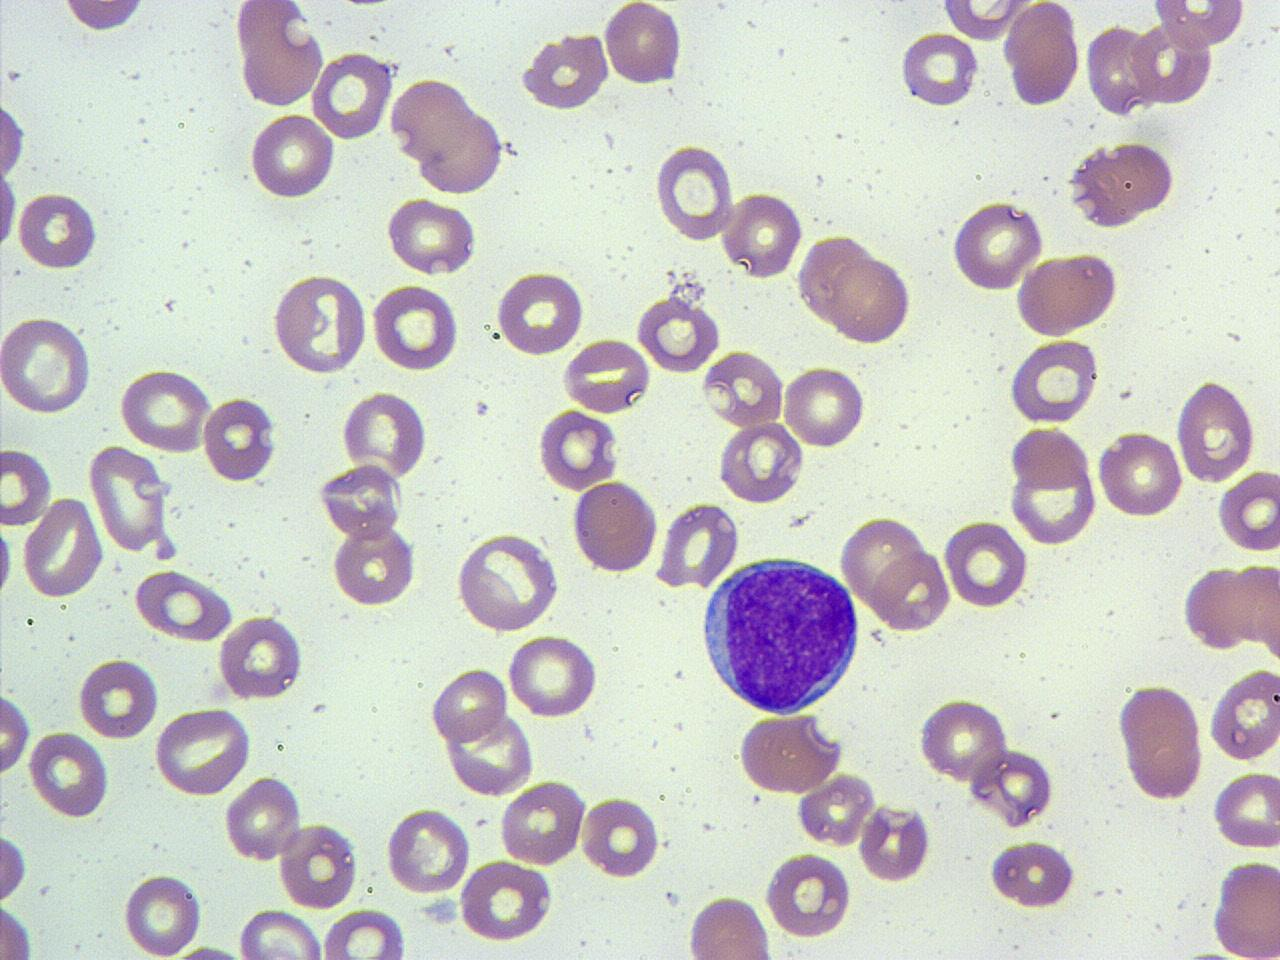Platelets: (0, 521, 16, 603)
RBC: (453, 530, 561, 632), (1115, 681, 1205, 803), (232, 2, 326, 111), (1069, 135, 1179, 228), (272, 270, 368, 376), (86, 442, 176, 553), (0, 312, 94, 418), (1006, 439, 1098, 546), (1013, 250, 1121, 339), (836, 512, 932, 612), (950, 196, 1047, 293), (152, 705, 254, 797), (1173, 376, 1259, 484), (734, 712, 842, 796), (21, 494, 106, 600), (570, 476, 660, 574), (386, 74, 480, 167), (116, 365, 214, 454), (339, 388, 431, 481), (494, 267, 588, 358), (369, 280, 460, 374), (654, 141, 736, 245), (497, 776, 587, 870), (1004, 1, 1082, 109), (456, 859, 556, 943), (444, 706, 535, 798), (761, 849, 852, 940), (1008, 337, 1101, 426), (916, 696, 1010, 784), (506, 632, 600, 720), (383, 804, 472, 896), (413, 106, 504, 195), (942, 518, 1031, 609), (248, 110, 336, 202), (130, 569, 236, 645), (216, 614, 306, 702), (1095, 428, 1183, 518), (311, 48, 395, 142), (382, 194, 478, 276), (26, 728, 112, 819), (655, 499, 740, 591), (1131, 16, 1215, 109), (782, 362, 868, 452), (721, 189, 805, 281), (330, 520, 417, 608), (716, 420, 806, 505), (830, 254, 913, 346), (223, 772, 304, 865), (795, 232, 875, 326), (278, 820, 359, 912), (518, 32, 610, 113), (122, 870, 204, 959), (868, 546, 952, 632), (602, 0, 684, 88), (1208, 664, 1280, 764), (1084, 22, 1158, 119), (536, 406, 620, 491), (699, 346, 786, 428), (636, 292, 722, 374), (13, 191, 100, 272), (1210, 858, 1280, 958), (77, 656, 160, 740), (580, 794, 661, 880), (202, 393, 278, 484), (318, 462, 406, 540), (560, 339, 651, 414), (986, 837, 1079, 909), (978, 744, 1055, 830), (796, 770, 878, 850), (896, 30, 979, 109), (430, 665, 509, 746), (858, 799, 934, 883), (684, 892, 776, 960), (1181, 562, 1249, 652), (1006, 424, 1092, 492), (1216, 466, 1280, 556), (1212, 767, 1280, 851), (1150, 1, 1248, 53), (318, 908, 409, 960), (235, 908, 326, 960), (1228, 561, 1280, 651), (1, 444, 56, 528), (940, 0, 1032, 42), (58, 0, 149, 35), (0, 686, 33, 778), (1, 91, 27, 191), (0, 826, 28, 904), (0, 900, 35, 958)
WBC: (696, 550, 865, 720), (1067, 136, 1179, 230)
